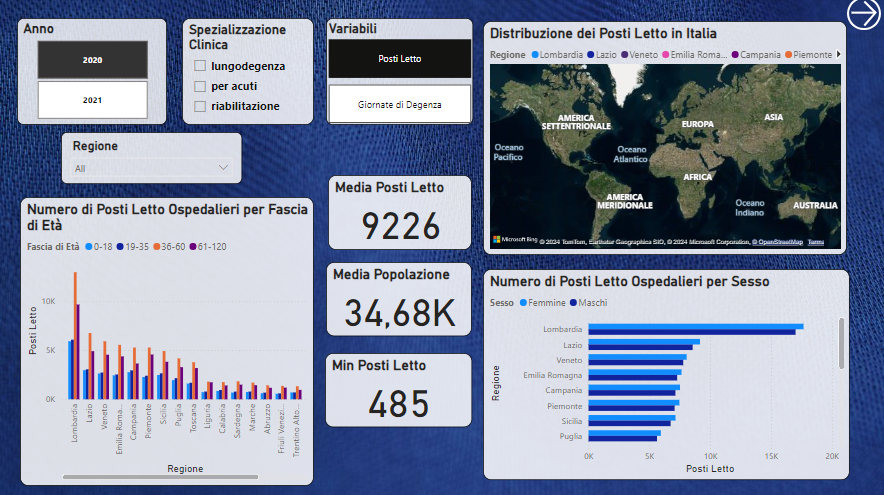

The dashboard page shown, as its layout file describes it:
{"tool":"powerbi","page":{"name":"Bookmark","canvas":[1280,720],"ordinal":1},"visuals":[{"type":"slicer","title":"Anno","fields":{"Values":["Calendar.Year"]},"box":[31.7,30.2,216,154.1],"z":0},{"type":"clusteredBarChart","title":"Numero di Posti Letto Ospedalieri per Sesso","fields":{"Category":["sanita regioni.nome"],"Y":["Measures (2).Posti Letto ALL"],"Series":["fact sanita popolazione.sesso"]},"box":[702.7,391,528.5,303.8],"z":0,"group":"g1"},{"type":"map","title":"Distribuzione dei Posti Letto in Italia","fields":{"Series":["sanita regioni.nome"],"Category":["sanita regioni.nome"],"Size":["Measures (2).Posti Letto ALL"]},"box":[702.7,34.2,524.2,337],"z":1000,"group":"g1"},{"type":"slicer","fields":{"Values":["sanita regioni.nome"]},"box":[95,194.4,260.6,74.9],"z":1000},{"type":"slicer","title":"Spezializzazione Clinica","fields":{"Values":["sanita specializzazioni_cliniche.specializzazione_clinica"]},"box":[269.3,30.2,190.1,154.1],"z":2000},{"type":"card","title":"Media Posti Letto","fields":{"Values":["Measures (2).posti_letto average per nome"]},"box":[479.5,256,207.4,108],"z":2000,"group":"g1"},{"type":"group","id":"g1","title":"Group 1","box":[36,34.2,1195.2,668.9],"z":3000},{"type":"card","title":"Media Popolazione","fields":{"Values":["Calendar.Posti Letto max per nome"]},"box":[476.6,381.8,210.2,106.6],"z":3000,"group":"g1"},{"type":"card","title":"Min Posti Letto","fields":{"Values":["Calendar.Posti Letto min per nome"]},"box":[475.2,512.9,211.7,106.6],"z":4000,"group":"g1"},{"type":"bookmarkNavigator","title":"Variabili","box":[476.6,30.2,211.7,154.1],"z":5000},{"type":"clusteredColumnChart","title":"Numero di Posti Letto Ospedalieri per Fascia di Età","fields":{"Category":["sanita regioni.nome"],"Y":["Measures (2).Posti Letto ALL"],"Series":["fact sanita popolazione.fascia"]},"box":[36,287.5,422.9,415.6],"z":5000,"group":"g1"},{"type":"actionButton","box":[1226.9,0,49,47.5],"z":5001}]}

Visuals, with their boxes in screenshot pixels (x1, y1, x2, y2), scaled from the page's 1280x720 canvas onto the 884x495 screenshot:
"Anno" slicer: select_region(22, 21, 171, 127)
"Numero di Posti Letto Ospedalieri per Sesso" clusteredBarChart: select_region(485, 269, 850, 478)
"Distribuzione dei Posti Letto in Italia" map: select_region(485, 24, 847, 255)
slicer - sanita regioni.nome: select_region(66, 134, 246, 185)
"Spezializzazione Clinica" slicer: select_region(186, 21, 317, 127)
"Media Posti Letto" card: select_region(331, 176, 474, 250)
"Group 1" group: select_region(25, 24, 850, 483)
"Media Popolazione" card: select_region(329, 262, 474, 336)
"Min Posti Letto" card: select_region(328, 353, 474, 426)
"Variabili" bookmarkNavigator: select_region(329, 21, 475, 127)
"Numero di Posti Letto Ospedalieri per Fascia di Età" clusteredColumnChart: select_region(25, 198, 317, 483)
actionButton: select_region(847, 0, 881, 33)
